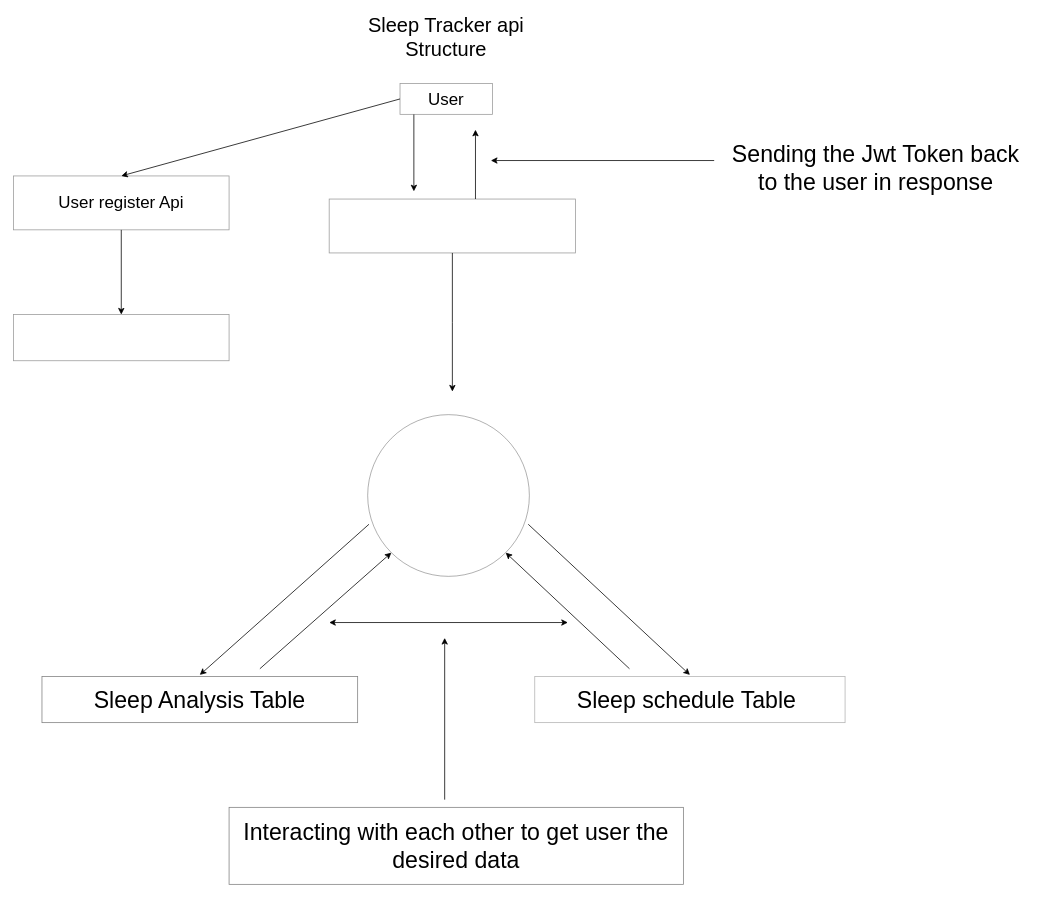
Some shapes in this 1043 by 898 pixel diagram are drawn without their labels. Here are the shapes that lost their labels. From the top down, the centre of each, then its label:
At pixel 452 225: "Login Api".
At pixel 121 337: "User Tabel".
At pixel 448 495: "Tracker".
